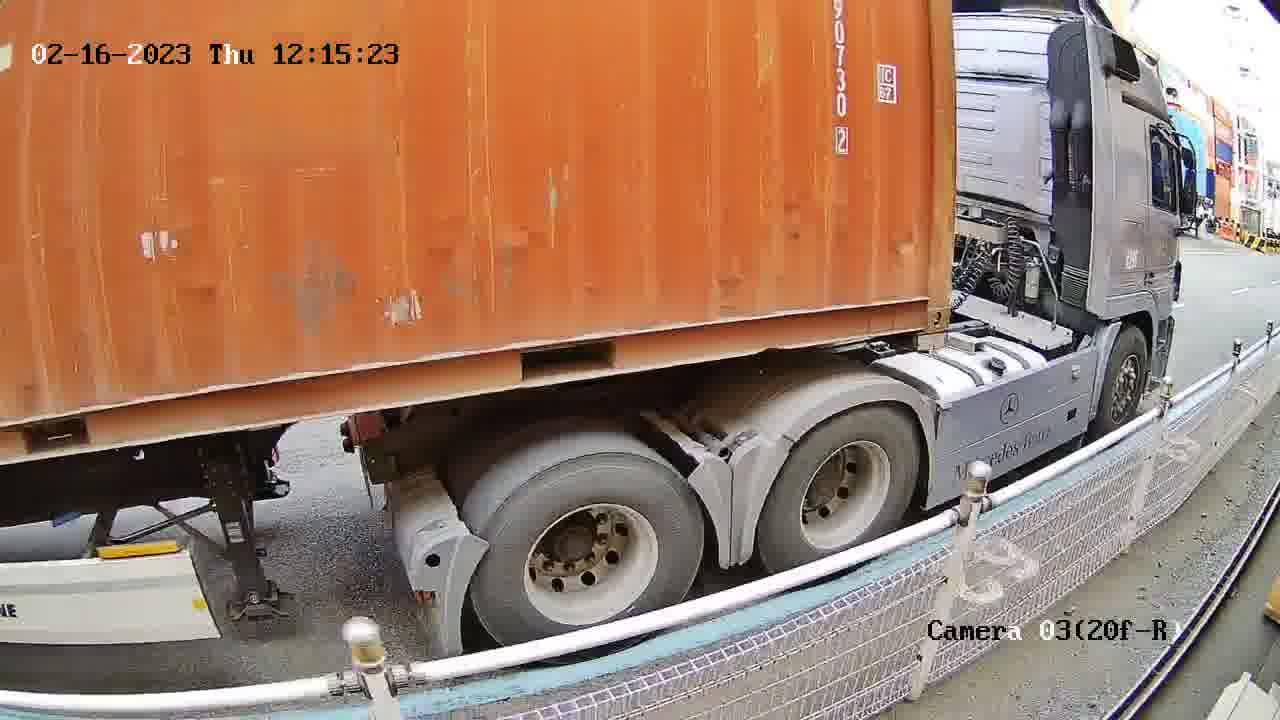Hole_R: (892, 254, 956, 331)
Tire: (471, 451, 705, 646), (758, 407, 922, 565)
